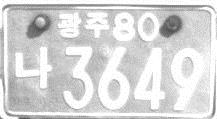0: (137, 11, 160, 43)
3: (61, 44, 94, 110)
4: (132, 45, 166, 111)
6: (97, 44, 131, 111)
8: (111, 11, 136, 43)
9: (167, 45, 206, 112)
광주_O: (55, 9, 110, 40)
나: (13, 44, 53, 91)
